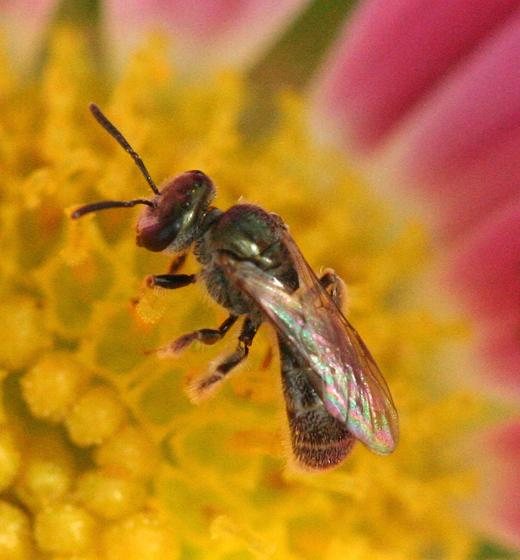Lasioglossum: (80, 99, 414, 480)
